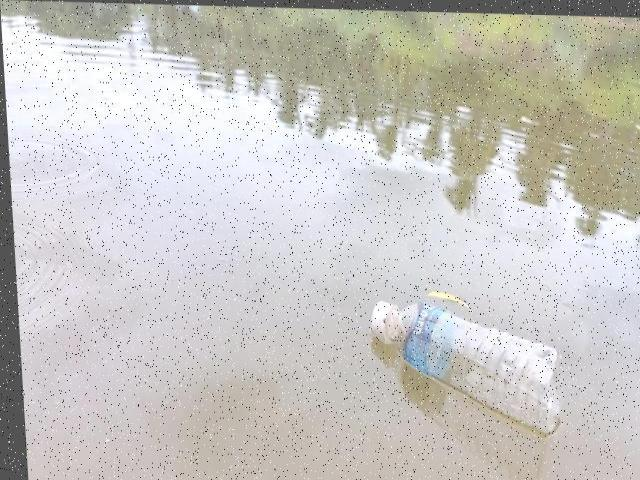Bottle: (362, 294, 570, 436)
